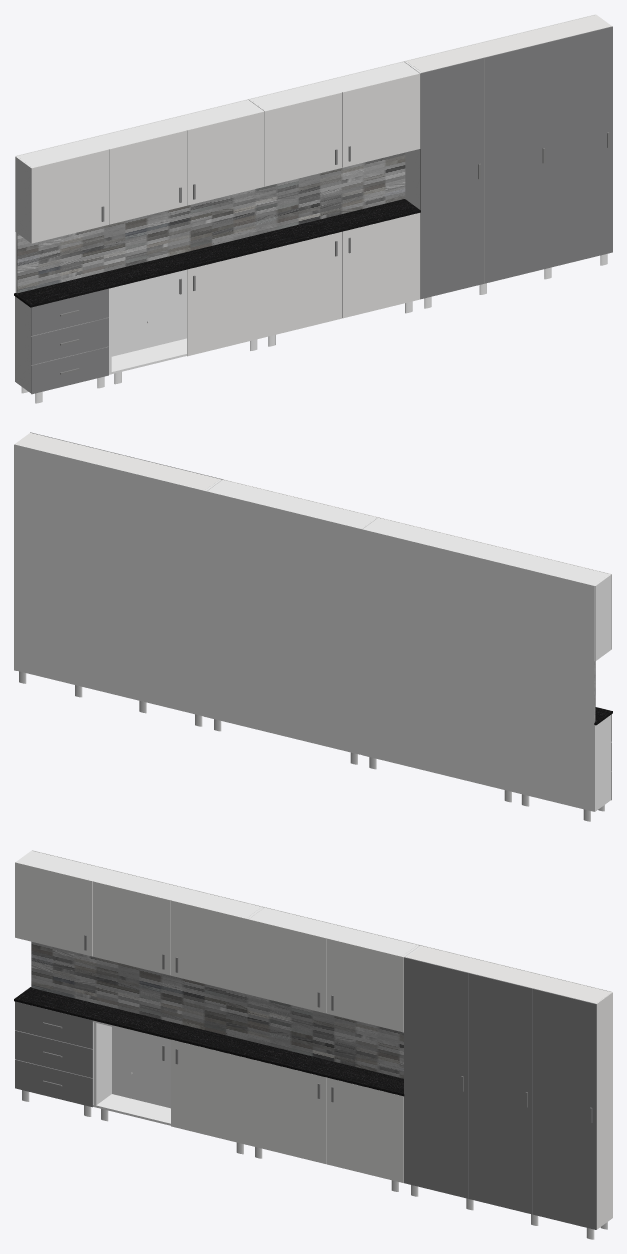
The model's file is kitchen-island.glb.
3 renders of one model, top to bottom at view 1: azimuth 30°, elevation 25°; view 2: azimuth 150°, elevation 25°; view 3: azimuth 330°, elevation 25°, orthographic.
Parts seen in each view (by area): view 1: Cube.27_0, Cube.1_28, Cube.4_31, Cube.5_26, Cube.19_9, Cube.8_77, Cube.8_69, Cube.12_74, Cube.26_1, Cube.8_85, Cube.12_82, Cube.8_61 (+13 smaller); view 2: Cube.26_1, Cube.5_88, Cube.15_79, Cube.15_16, Cube.11_12, Cube.14_17, Cube.15_55; view 3: Cube.27_0, Cube.4_31, Cube.5_26, Cube.1_28, Cube.19_9, Cube.12_74, Cube.8_77, Cube.8_69, Cube.8_61, Cube.12_82, Cube.12_58, Cube.8_85 (+13 smaller).
Boxes of the visible parts, x1,y1,x2,y2 form: Cube.27_0: [16, 152, 405, 293]; Cube.1_28: [484, 42, 548, 283]; Cube.4_31: [420, 57, 484, 299]; Cube.5_26: [549, 26, 612, 267]; Cube.19_9: [14, 199, 420, 307]; Cube.8_77: [342, 213, 420, 318]; Cube.8_69: [187, 250, 264, 356]; Cube.12_74: [265, 232, 342, 337]; Cube.26_1: [15, 14, 595, 356]; Cube.8_85: [342, 73, 420, 167]; Cube.12_82: [264, 92, 342, 186]; Cube.8_61: [187, 111, 264, 205]; Cube.26_1: [15, 444, 594, 811]; Cube.5_88: [15, 433, 219, 490]; Cube.15_79: [210, 480, 375, 528]; Cube.15_16: [443, 537, 609, 585]; Cube.11_12: [594, 715, 611, 811]; Cube.14_17: [594, 574, 611, 661]; Cube.15_55: [365, 518, 526, 566]; Cube.27_0: [31, 941, 403, 1078]; Cube.4_31: [404, 957, 468, 1198]; Cube.5_26: [532, 988, 596, 1229]; Cube.1_28: [468, 973, 532, 1214]; Cube.19_9: [14, 987, 404, 1096]; Cube.12_74: [248, 1058, 326, 1163]; Cube.8_77: [326, 1077, 403, 1182]; Cube.8_69: [171, 1039, 248, 1144]; Cube.8_61: [170, 900, 248, 994]; Cube.12_82: [248, 919, 326, 1013]; Cube.12_58: [93, 881, 170, 975]; Cube.8_85: [326, 938, 403, 1032].
Bounding box in the file's own units: 947 × 369 × 48.97.
8 materials, 2 textured.
